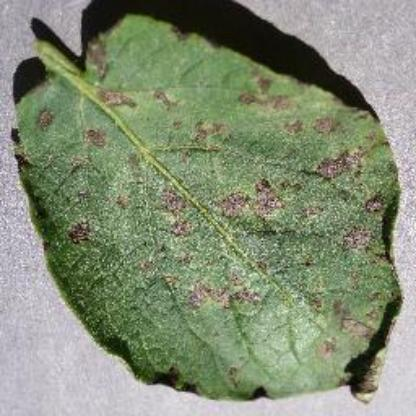Early-Blight: (13, 13, 403, 404)
